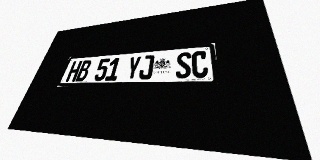1: (105, 57, 122, 81)
5: (93, 58, 111, 81)
B: (75, 60, 92, 82)
C: (192, 50, 208, 78)
H: (65, 61, 83, 82)
J: (138, 55, 155, 80)
S: (175, 52, 191, 79)
Y: (125, 56, 142, 80)
